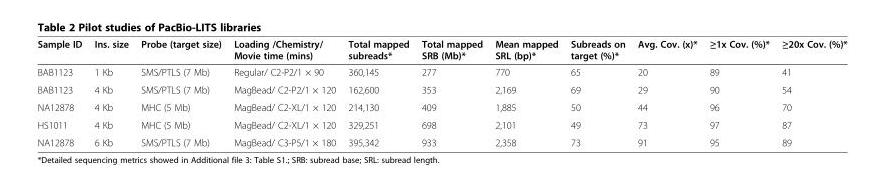table: (36, 36, 846, 147)
table column: (226, 36, 341, 147), (134, 36, 226, 147), (488, 36, 563, 147), (414, 36, 488, 147), (341, 36, 414, 147), (702, 36, 775, 147), (630, 36, 702, 147), (775, 36, 846, 147), (563, 36, 630, 147), (36, 36, 87, 147), (87, 36, 134, 147)
table column header: (36, 36, 846, 63)
table row: (36, 36, 846, 63), (36, 80, 846, 98), (36, 115, 846, 133), (36, 63, 846, 80), (36, 98, 846, 115), (36, 133, 846, 147)
